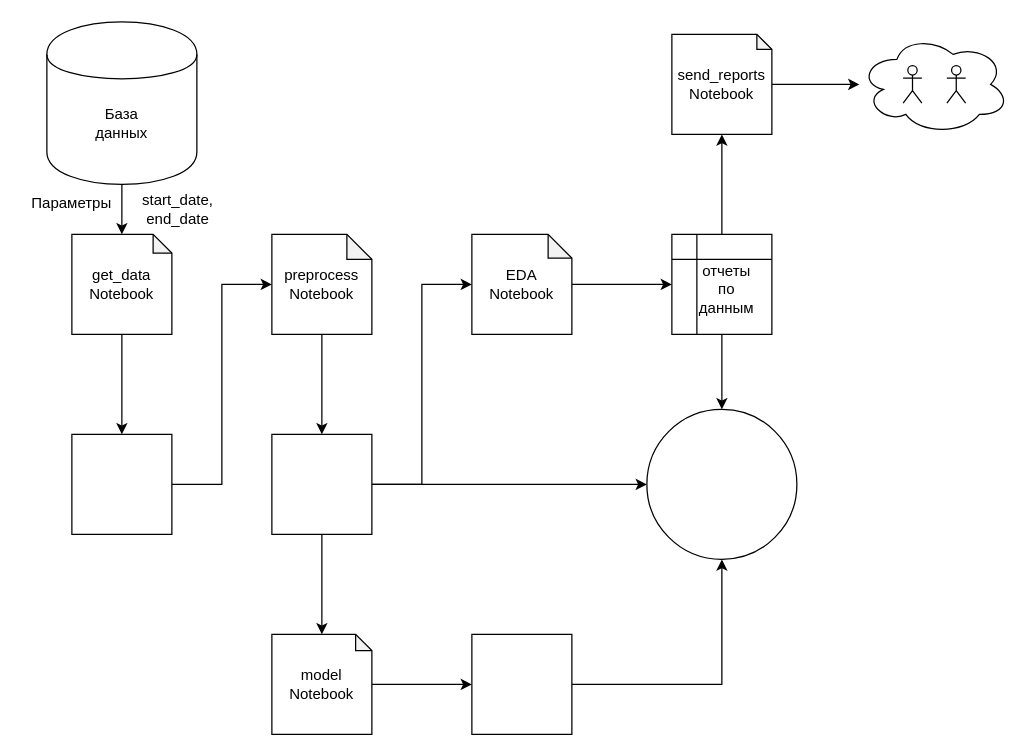
The diagram is 1031 pixels wide and 756 high, and some of its shapes have lost their labels. The shapes that lost their labels are listed below. From the top down, each one's box as (x1, y1, x2, y2) in pixels, then its label:
(71, 433, 172, 534): data/raw/
(271, 433, 372, 534): data/ preprocessed/
(646, 408, 797, 559): Web-интерфейс
(471, 633, 572, 734): model/
